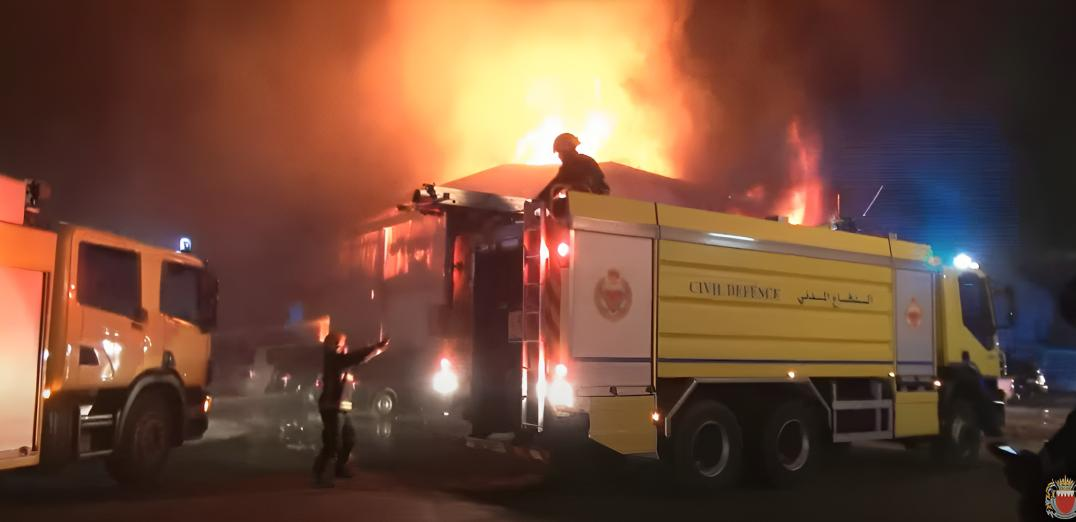firetruck_on: (405, 182, 1009, 482), (0, 169, 218, 494)
